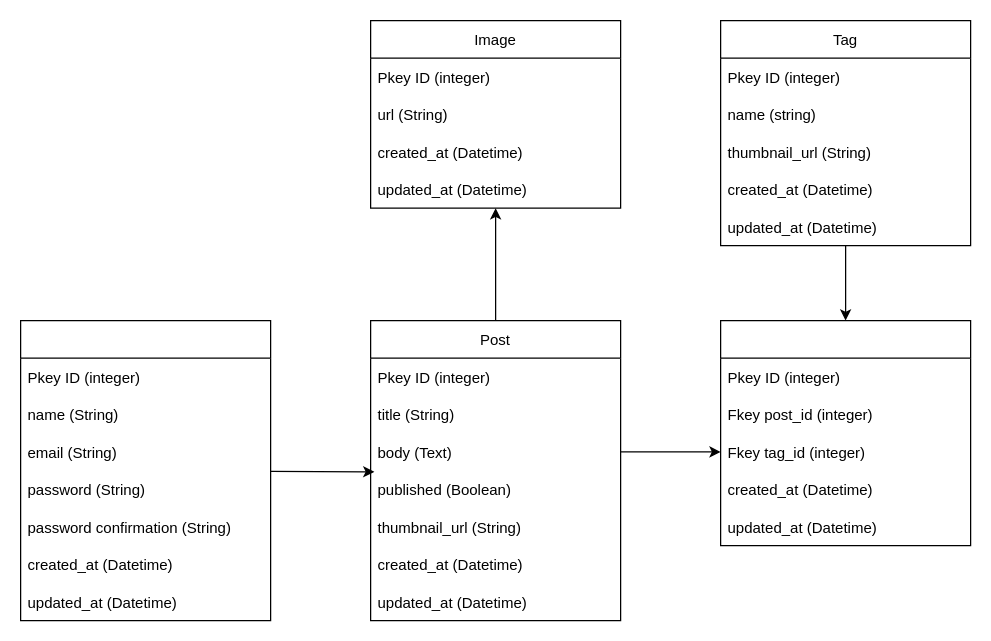
Some shapes in this 991 by 641 pixel diagram are drawn without their labels. The shapes that lost their labels are listed below. From the top down, each one's box as (x1, y1, x2, y2) in pixels, then its label:
(719, 319, 971, 546): Post_tag
(19, 319, 271, 621): Admin
